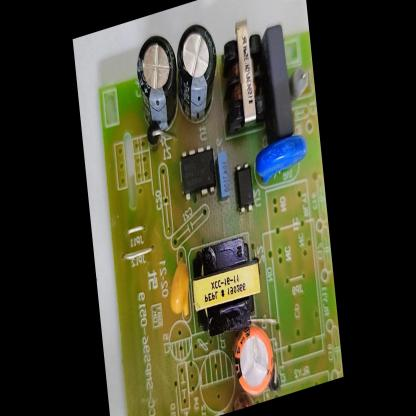Cap1: (226, 316, 280, 406)
Cap2: (228, 390, 260, 412)
Cap3: (170, 16, 224, 128)
Cap4: (132, 27, 181, 144)
MOSFET: (176, 139, 218, 206)
Mov: (250, 129, 312, 191)
Resistor: (287, 61, 312, 103)
Transformer: (185, 226, 267, 343), (219, 13, 268, 132)
